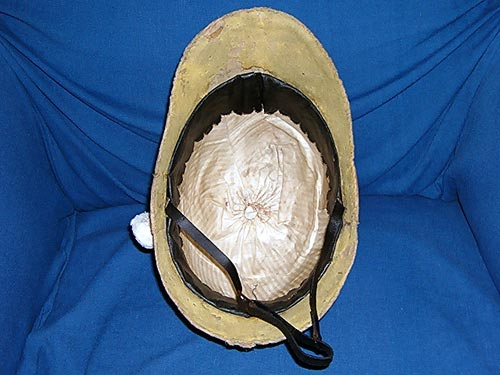helmet: (151, 32, 369, 344)
